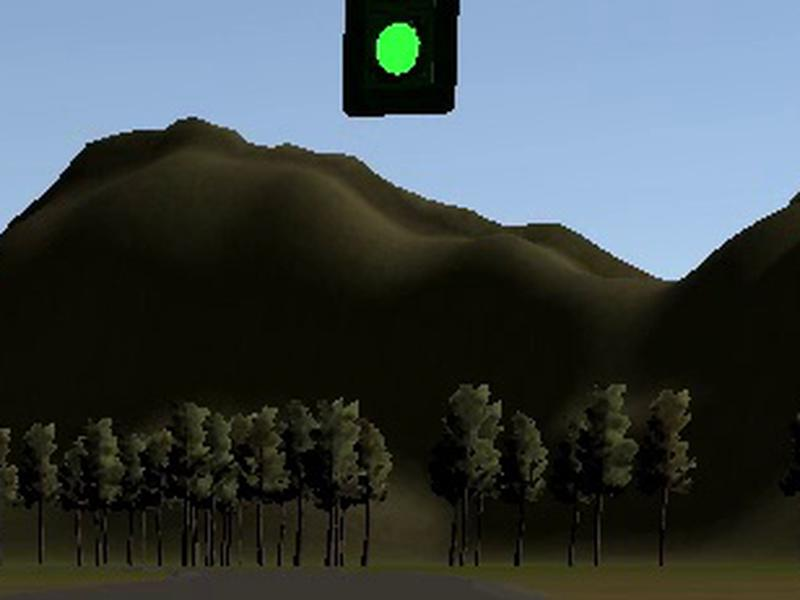Green: (342, 1, 461, 117)
